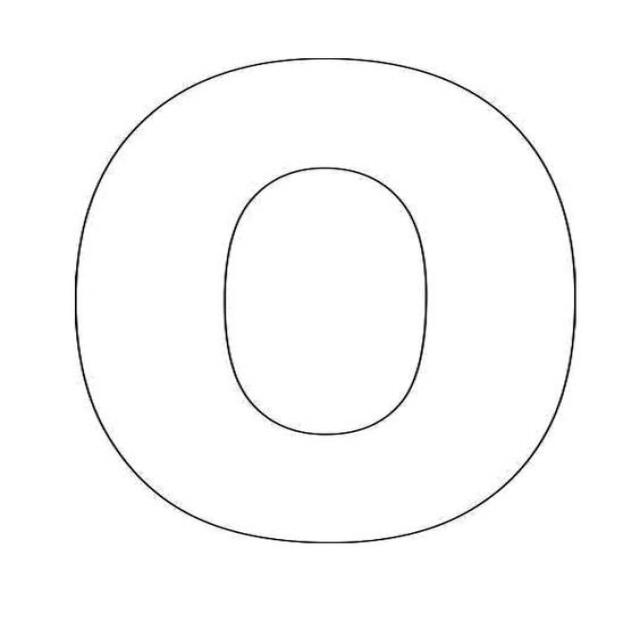O: (43, 31, 606, 578)
